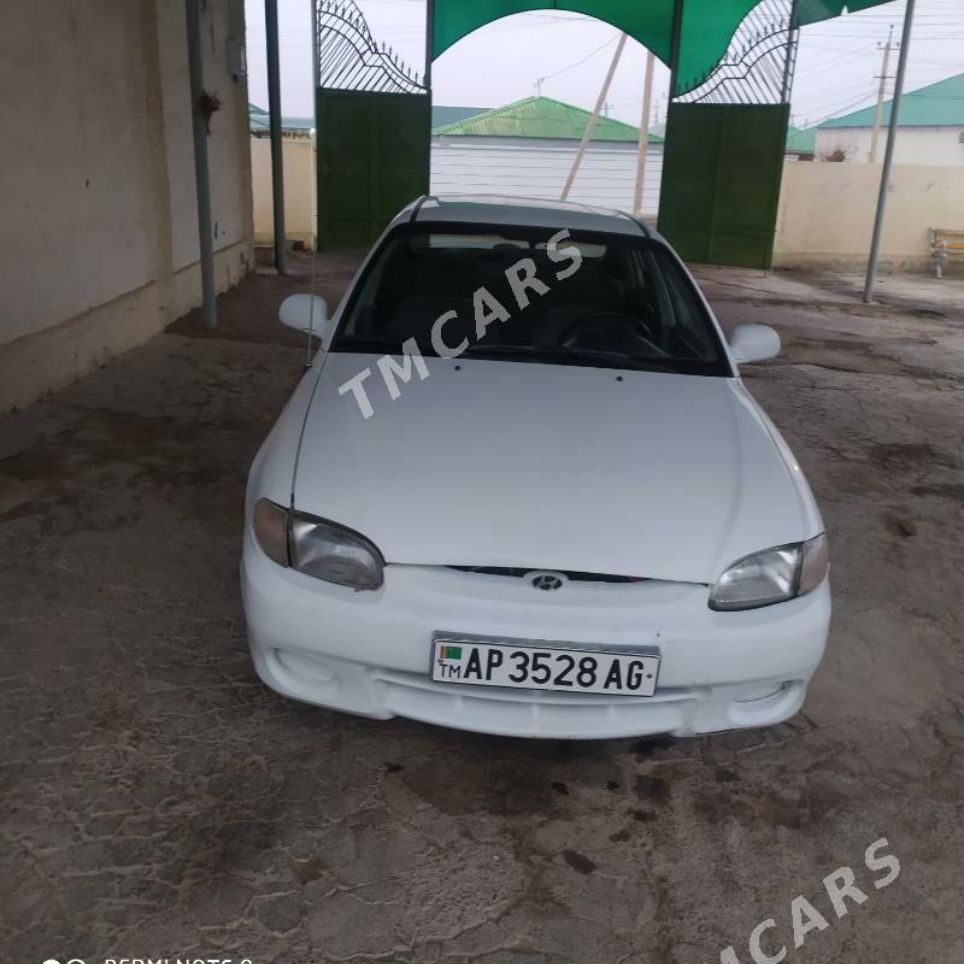license plate: (430, 637, 658, 697)
truck: (230, 186, 830, 747)
